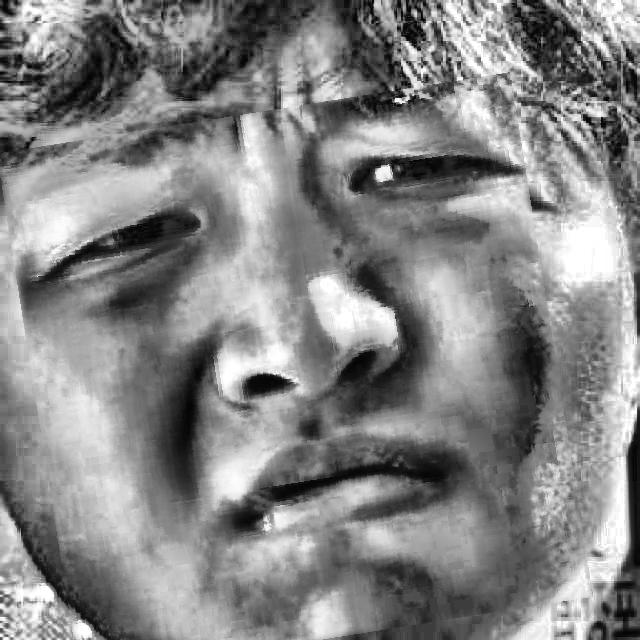angry: (16, 90, 574, 640)
